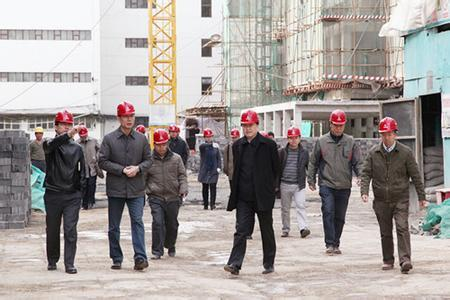helmet: (52, 109, 77, 141), (114, 101, 137, 135), (378, 117, 402, 149), (239, 110, 261, 141), (327, 108, 350, 137), (152, 128, 170, 155), (285, 125, 302, 149), (77, 123, 91, 145), (228, 126, 241, 145), (203, 126, 216, 144), (33, 126, 47, 141), (168, 124, 180, 140)
